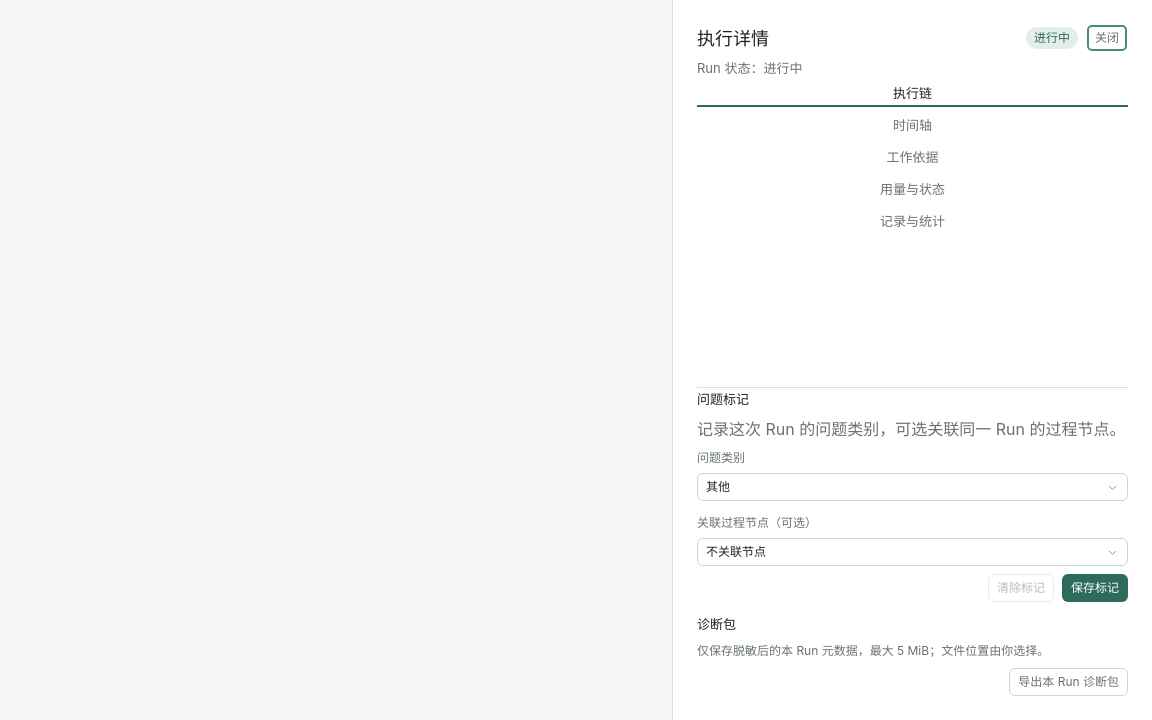
RunExecutionDetails › shows export errors inline and retries the same Run before confirming success once
(page scrolled)
Click the button "导出本 Run 诊断包". click: click(1069, 682)
box: [1009,668,1128,696]
(page scrolled)
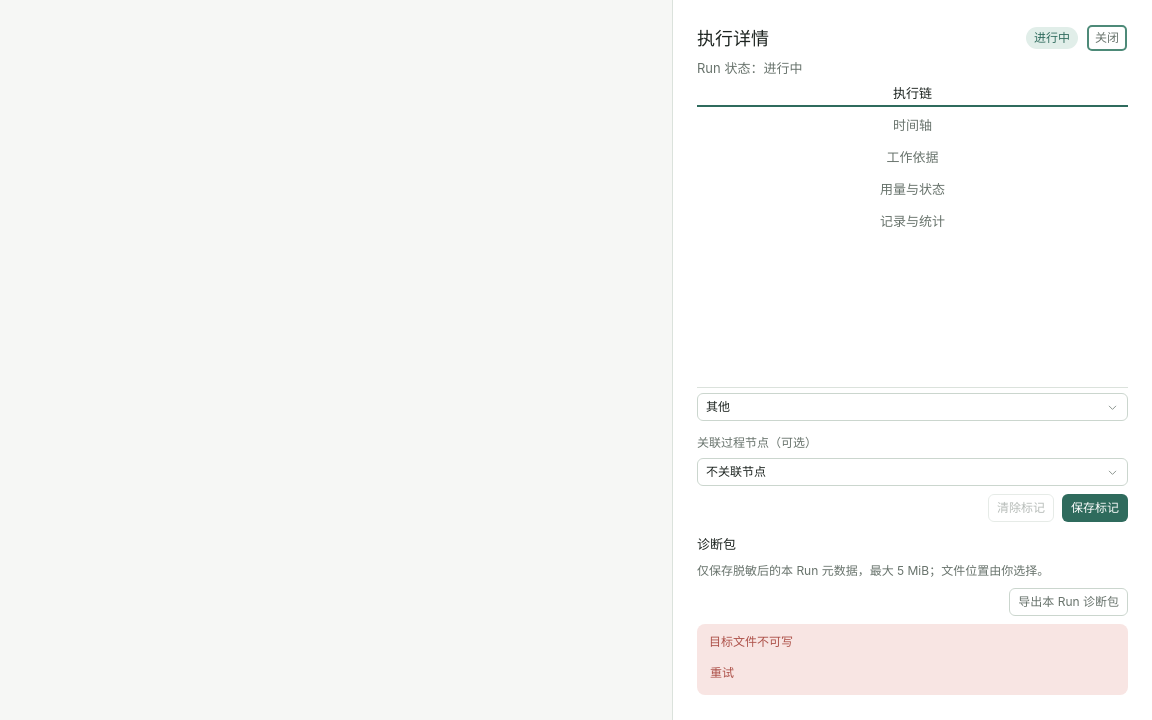
expect the message shows "目标文件不可写": met, box [709,634,793,649]
Click the button "重试". click: click(722, 673)
box: [709,659,735,687]
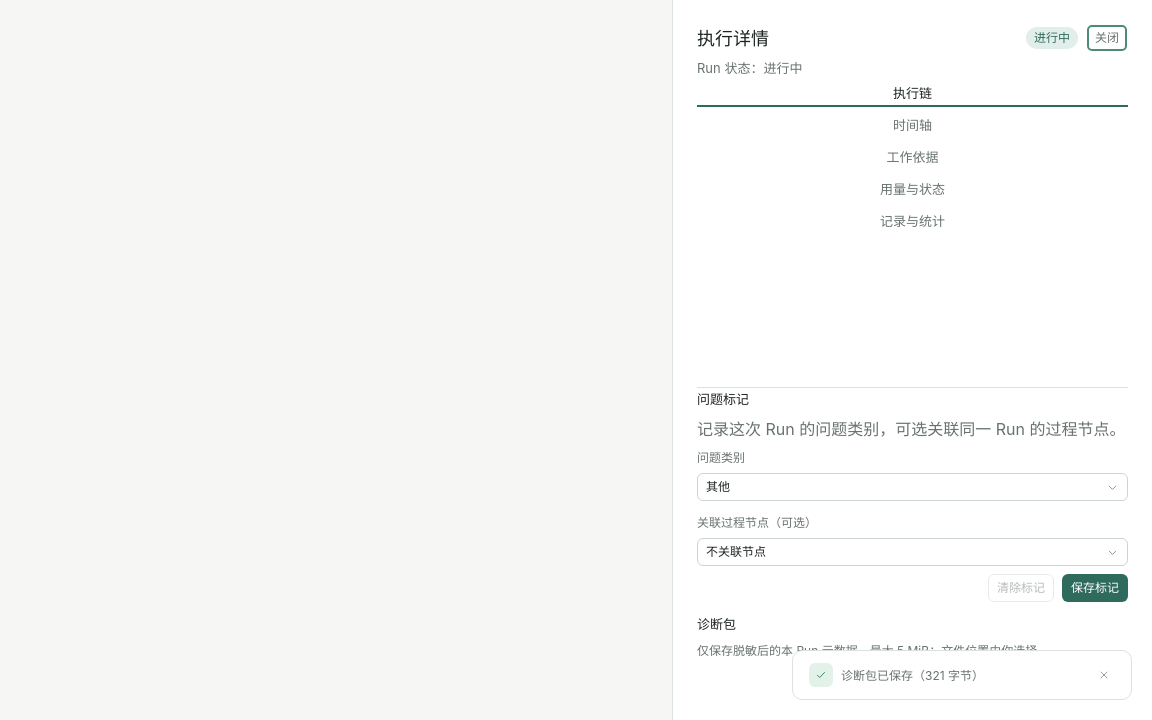
expect the message reads "诊断包已保存（321 字节）": met, box [841,668,984,683]
